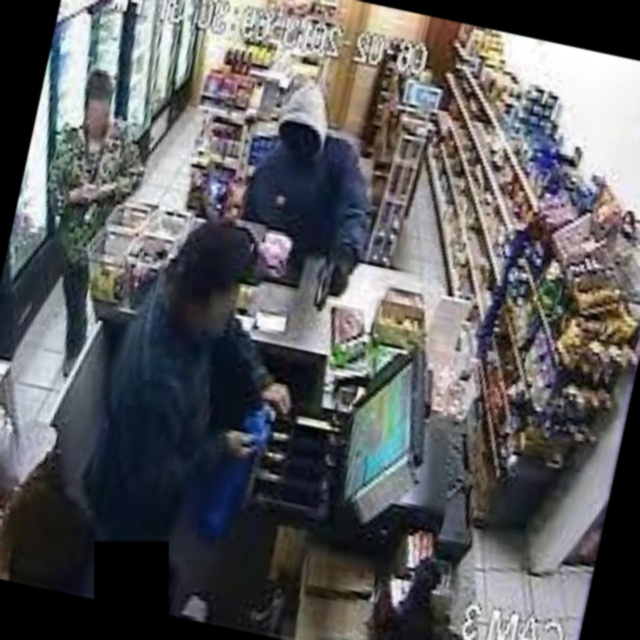gun: (301, 246, 353, 312)
